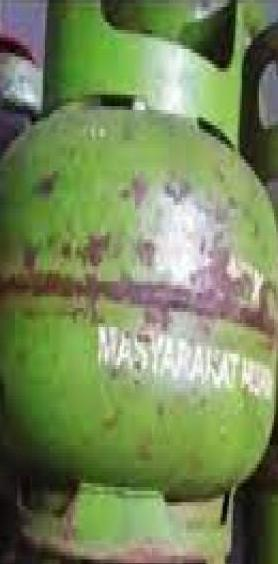cylinder: (1, 0, 278, 564)
